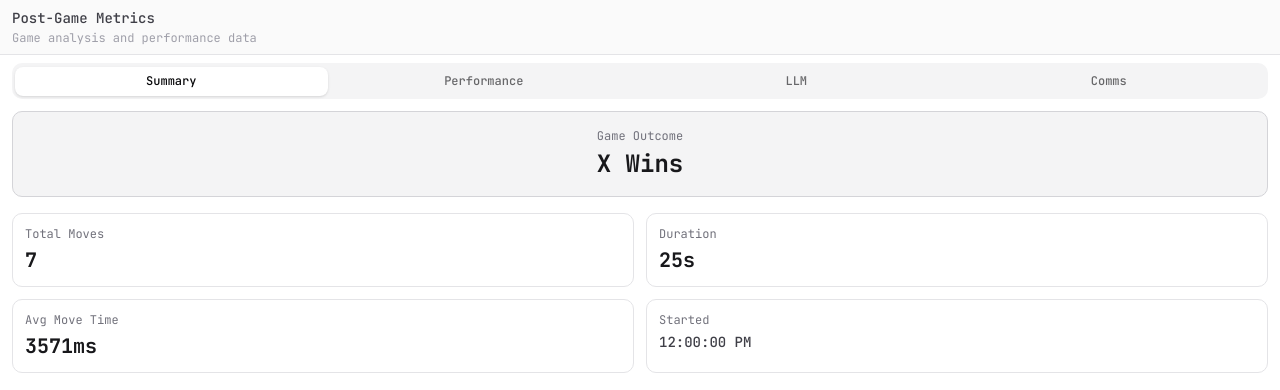
it: PostGameMetrics › PerformanceTab › displays 'No performance data available' when empty
Click the tab "Performance" at coordinates (484, 81), box [328,66,640,96]
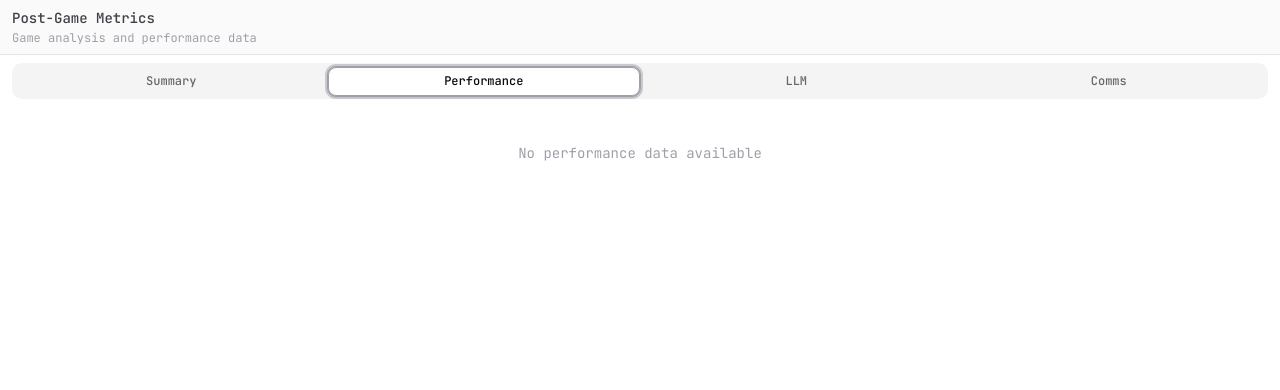
Expected: the text "No performance data available" is shown, [518,144,762,162]
